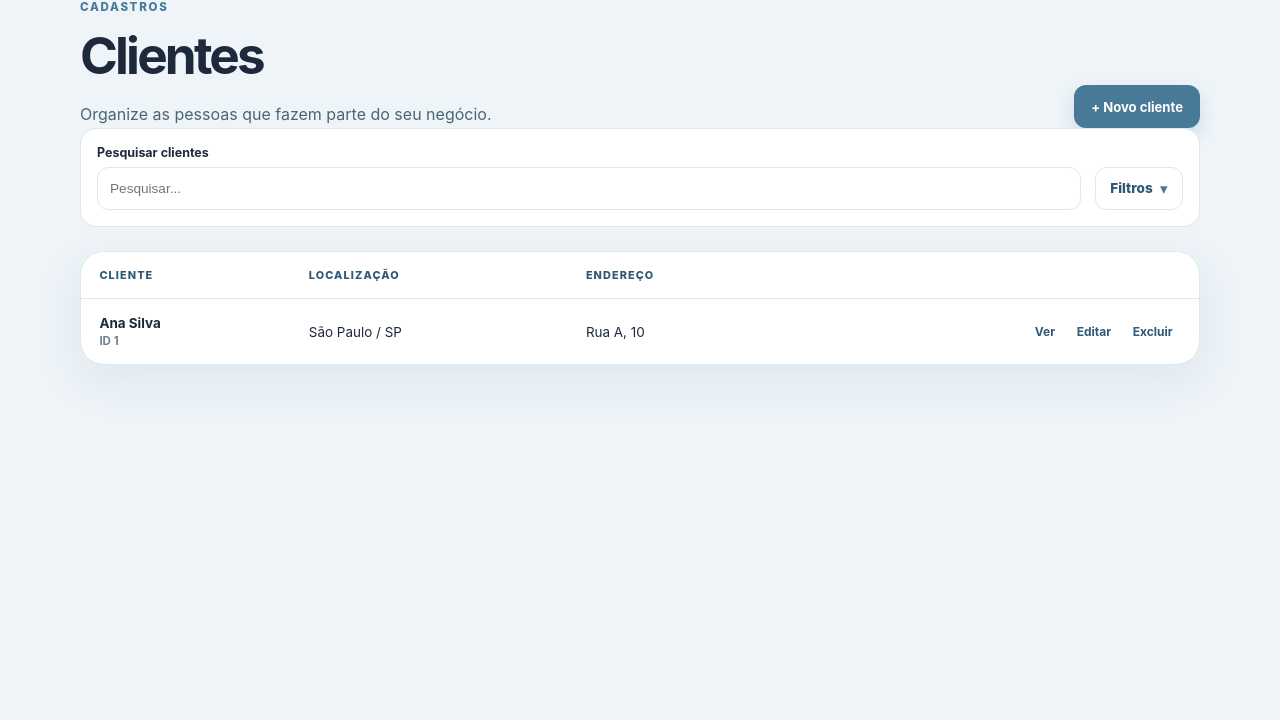
Test case: CustomersPage › shows an explicit empty state when the customer has no purchases
Expected: the text "Ana Silva" is shown, [99,315,161,331]
Click the button "Ver" at point(1045, 332), box [1027,318,1063,345]
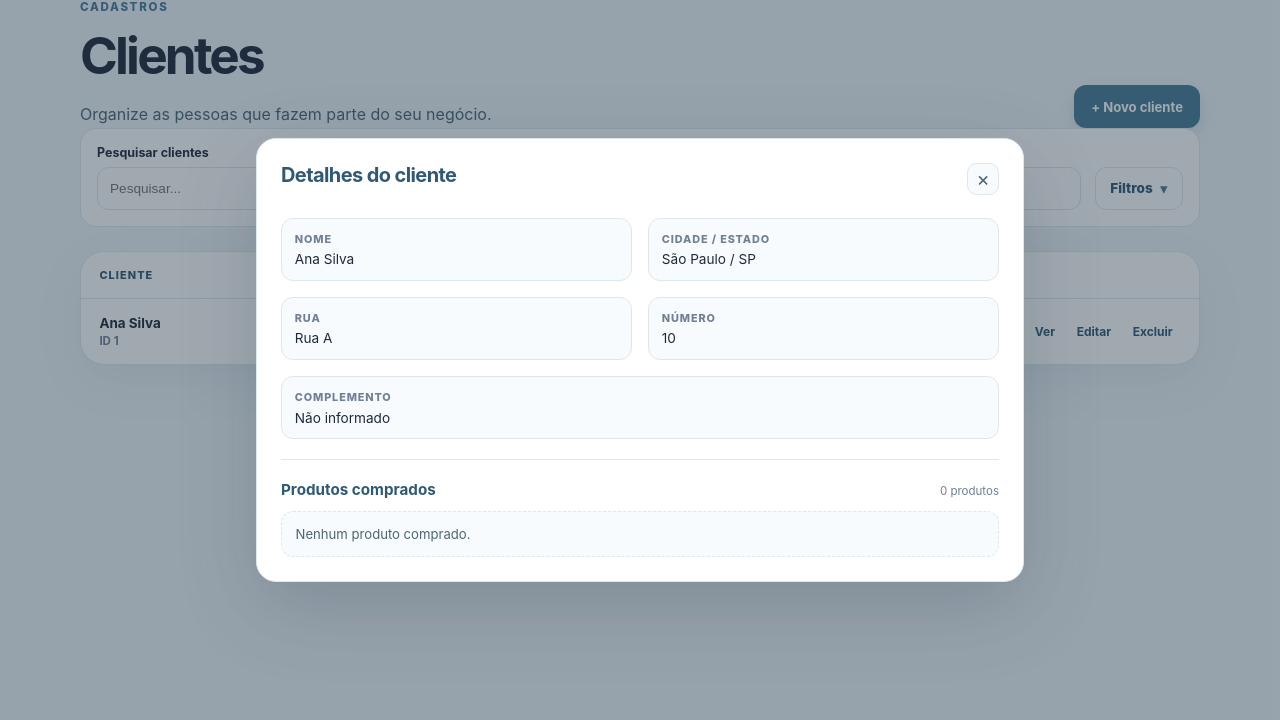
Now the text "Nenhum produto comprado." is shown, box [281,511,999,557]
